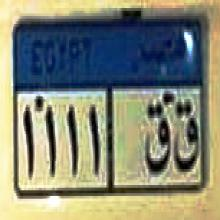1: (64, 100, 80, 182), (86, 102, 103, 178), (21, 105, 36, 180), (45, 105, 58, 184)
qaaf: (142, 101, 170, 180), (173, 101, 199, 175)
